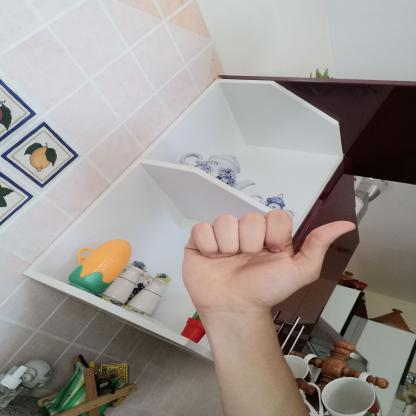DAD: (168, 204, 367, 324)
